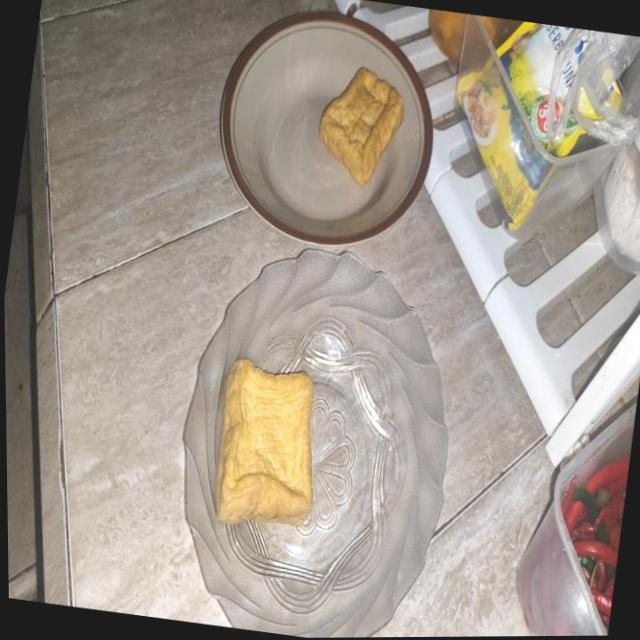tahu_goreng: (216, 359, 314, 526), (319, 67, 404, 186)
